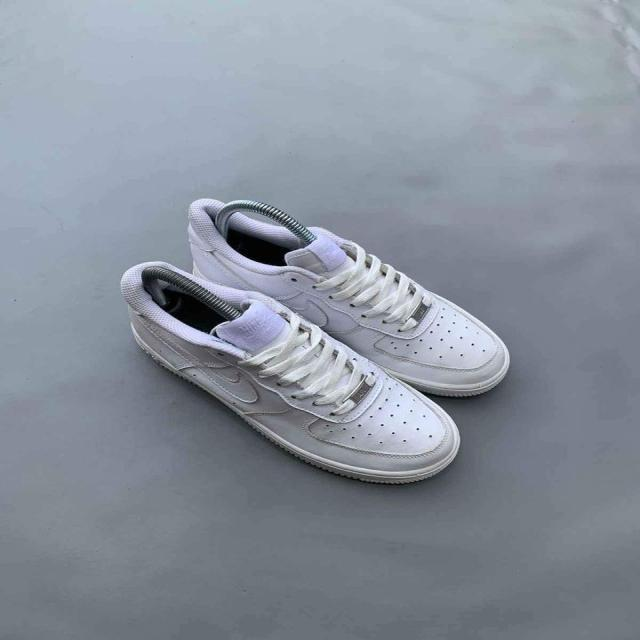nike fake air force: (88, 260, 464, 487), (184, 196, 512, 398)
